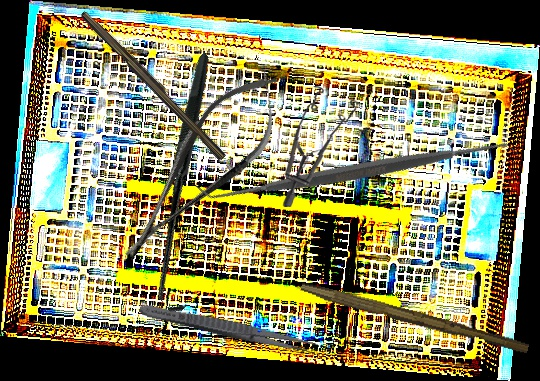Dressing Forceps: (137, 299, 318, 357)
Hook Surgical: (56, 52, 323, 317)
Micro Scissor: (98, 57, 305, 278)
Scalpel Handle: (77, 7, 231, 162), (298, 281, 531, 356)
Spatula Surgical: (194, 7, 521, 334)
Speculum: (275, 83, 366, 208)
